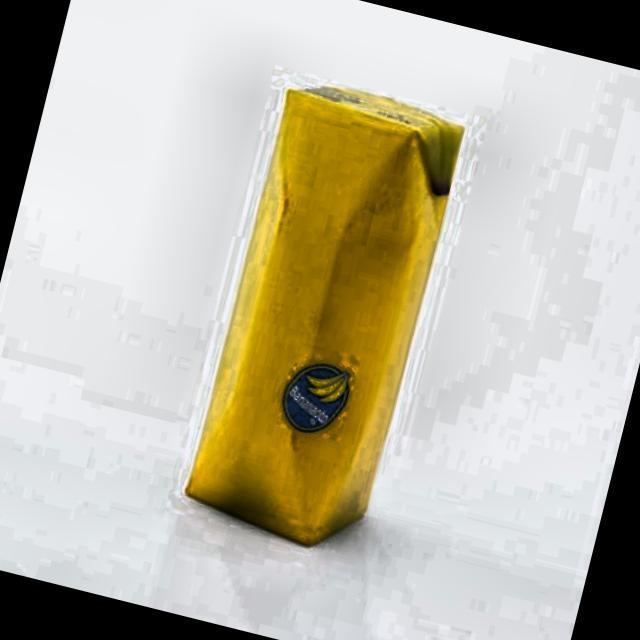cardboard: (178, 70, 469, 558)
